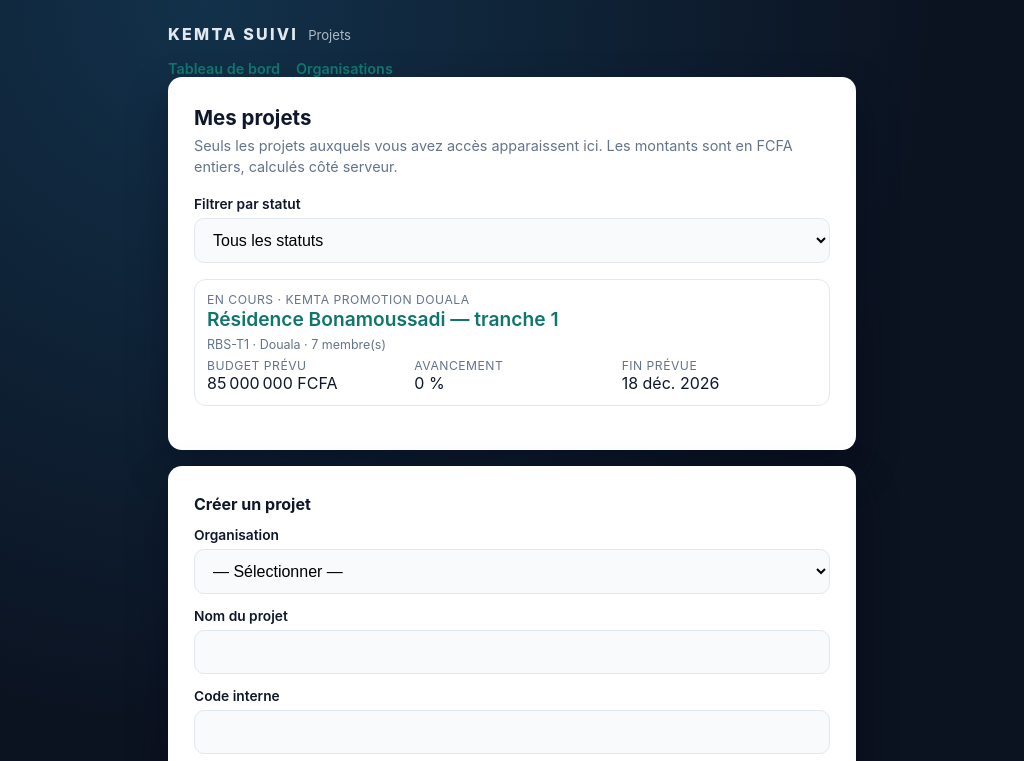
Test: ProjectsPage › refuse une saisie de budget avec centimes avant tout appel réseau
The image size is (1024, 761).
expect the list item with test id "project-card" is shown: met, box [194,279,830,406]
Select "KEMTA Promotion Douala" in the dropdown labelled "Organisation": (512, 572) [194,549,830,594]
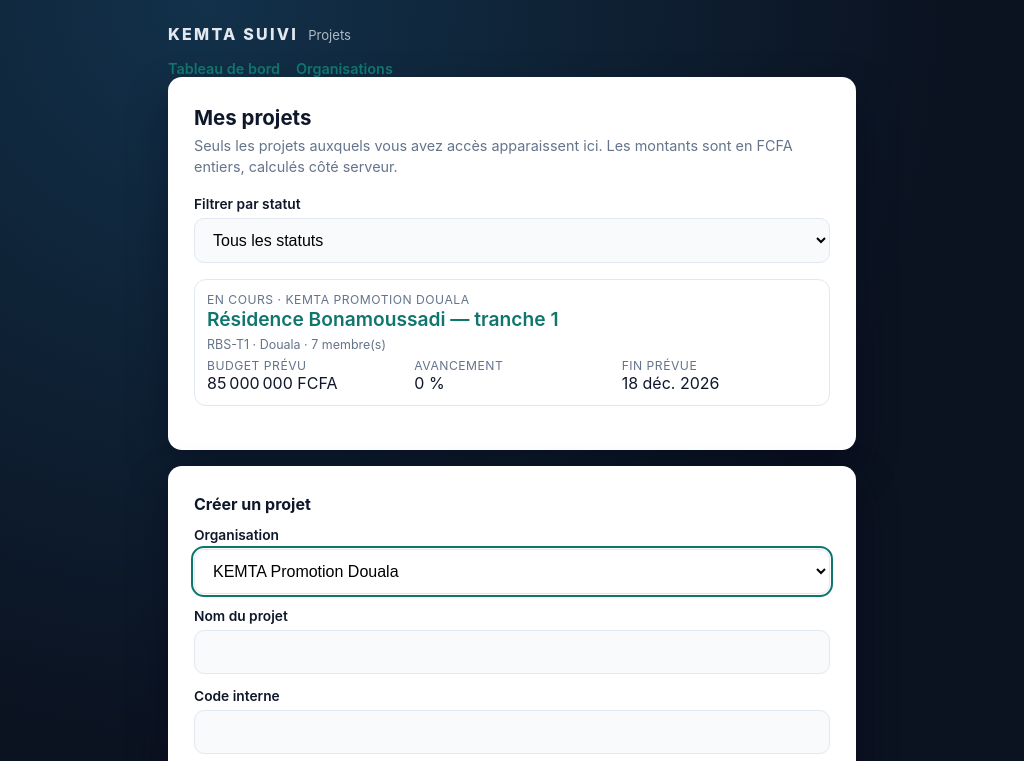
In the field labelled "Nom du projet": (512, 652) [194,630,830,674], type "Entrepôt Bonabéri"
(page scrolled)
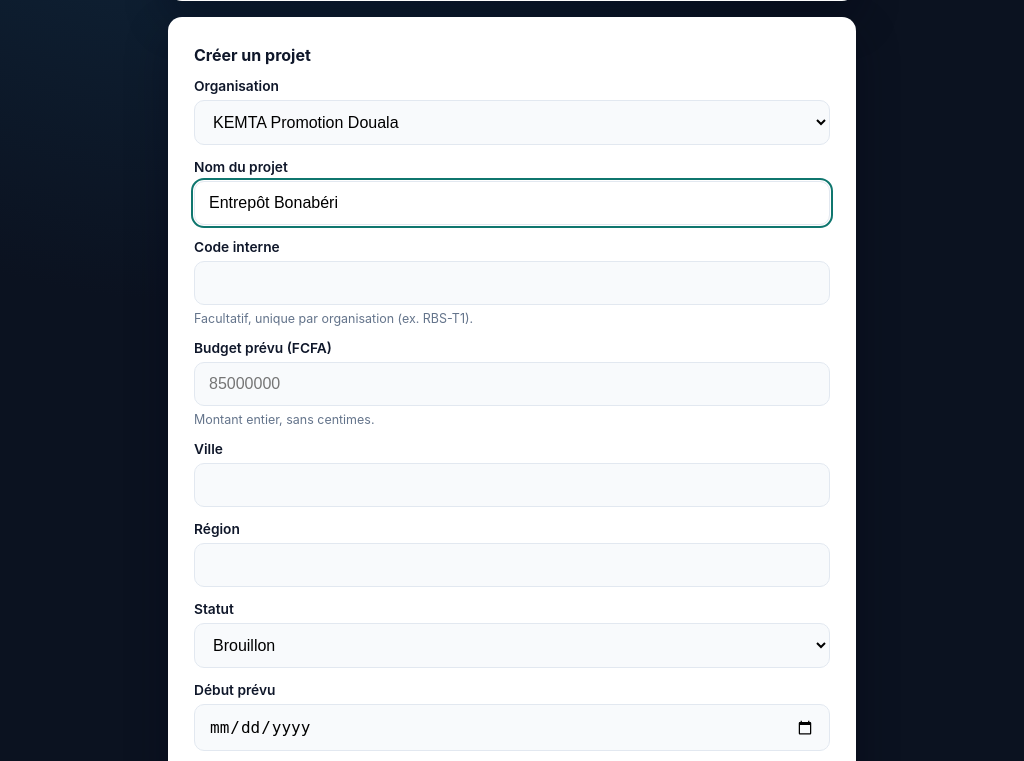
In the field labelled "Budget prévu (FCFA)": (512, 384) [194,362,830,406], type "12000000,50"
(page scrolled)
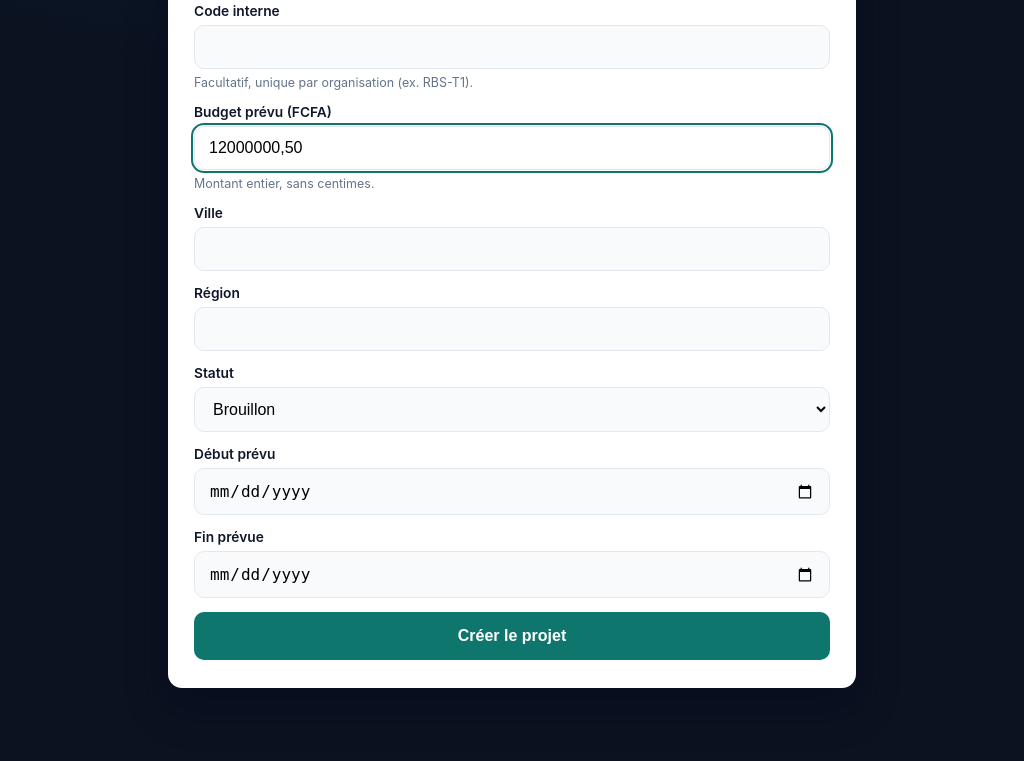
Click the button "Créer le projet": (512, 636) [194,612,830,660]
(page scrolled)
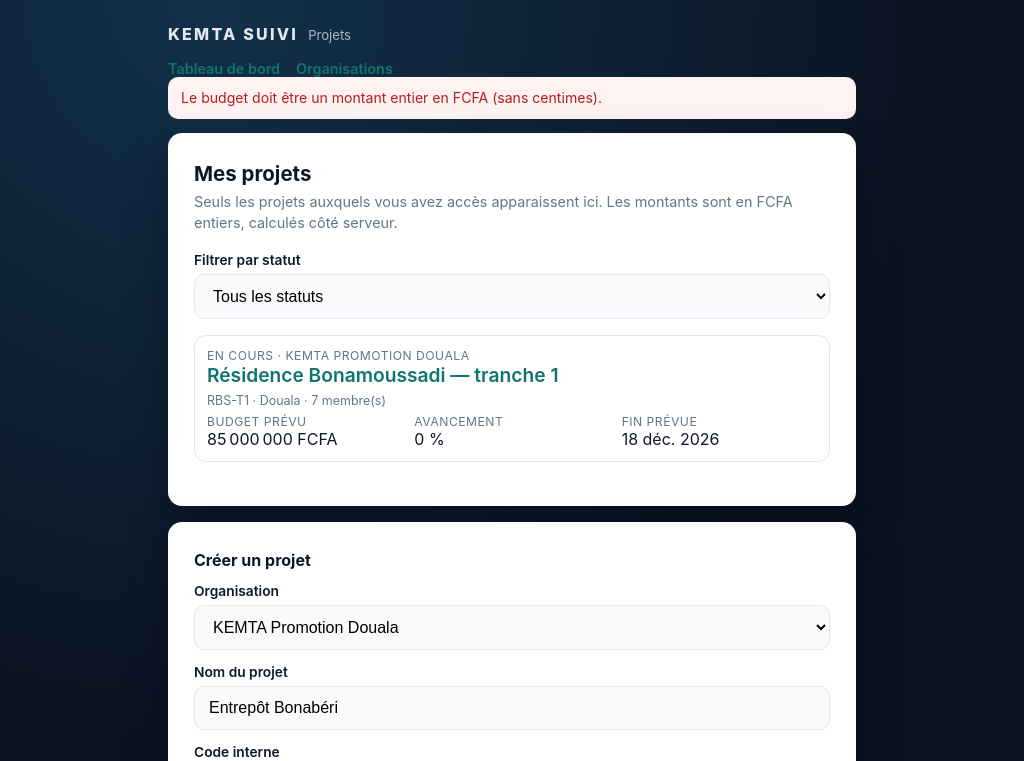
expect the message shows "entier en FCFA": met, box [181,89,602,106]
